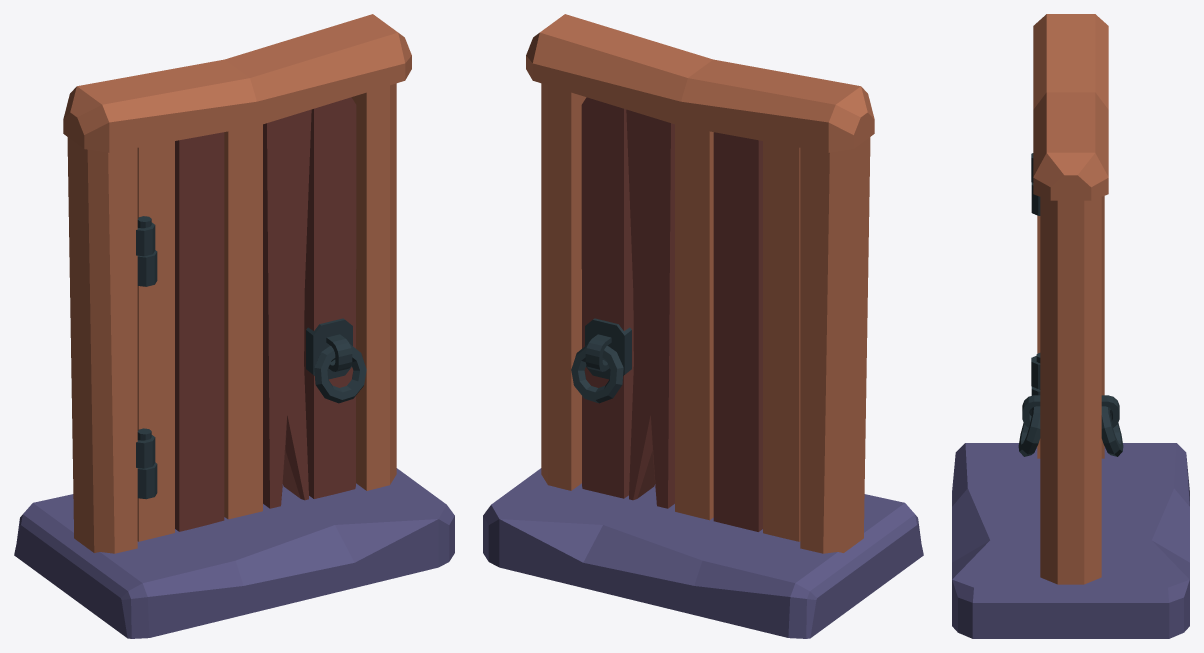
The model's file is Building_Doors_02.fbx.
3 views of the same model, side by side, from view 1: azimuth 30°, elevation 25°; view 2: azimuth 150°, elevation 25°; view 3: azimuth 270°, elevation 25° (orthographic). The views are drawn at different scales.
Visible parts, largest first — view 1: Building_Door_02; view 2: Building_Door_02; view 3: Building_Door_02.
Boxes of the visible parts, x1,y1,x2,y2 form: Building_Door_02: [14, 14, 454, 638]; Building_Door_02: [483, 14, 923, 638]; Building_Door_02: [952, 14, 1189, 638].
Size of the model in its own units: 206 by 293 by 132.
